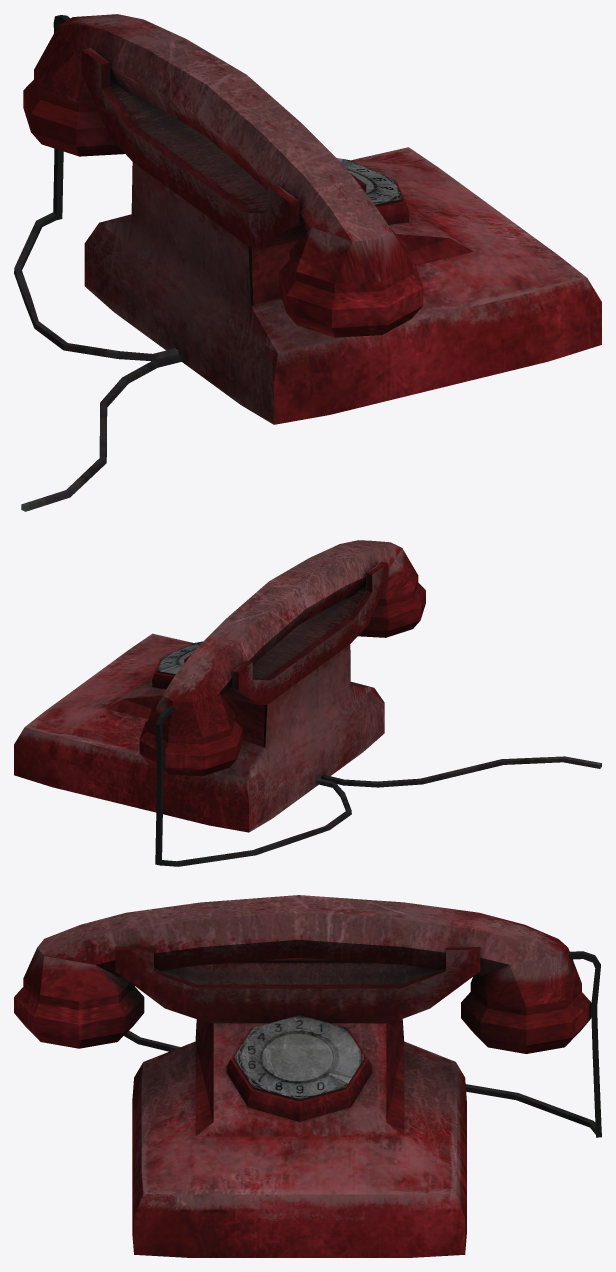
File: telephone.fbx
3 renders of one model, top to bottom at view 1: azimuth 30°, elevation 25°; view 2: azimuth 150°, elevation 25°; view 3: azimuth 270°, elevation 25°, orthographic. The views are drawn at different scales.
Visible parts, largest first — view 1: Plane_001; view 2: Plane_001; view 3: Plane_001.
Boxes of the visible parts, x1=… form: Plane_001: x1=14, y1=14, x2=601, y2=511; Plane_001: x1=14, y1=540, x2=601, y2=866; Plane_001: x1=14, y1=895, x2=601, y2=1257.
Size of the model in its own units: 1.06 by 0.4459 by 1.02.
